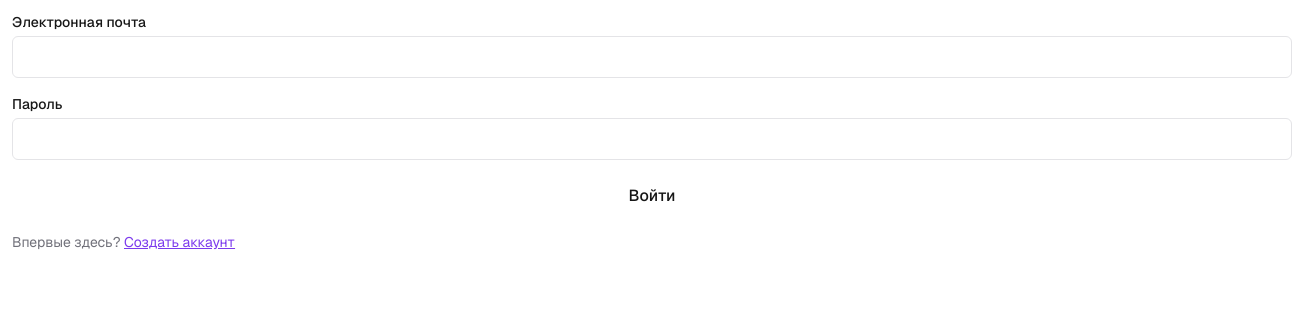
Test: SignInForm › shows the invalid-credentials alert and keeps the email
Type "reader@example.com" into the field labelled "Электронная почта" at (652, 57), box x1=12 y1=36 x2=1292 y2=78
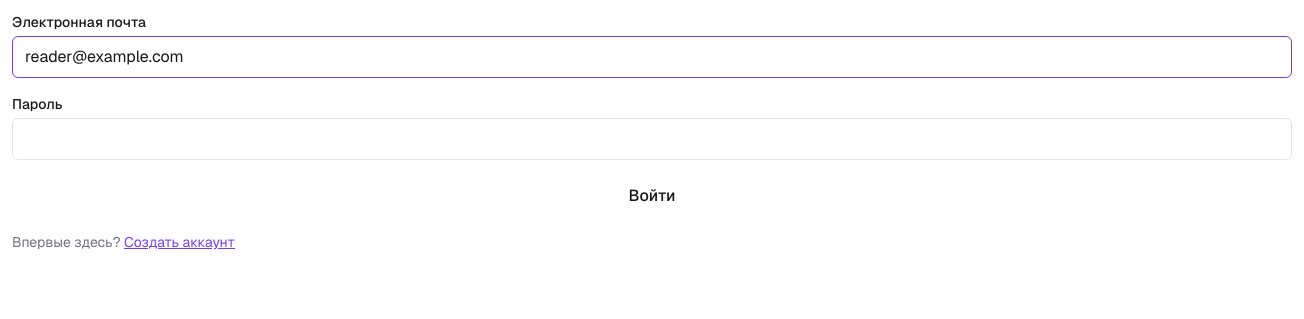
Type "secret-password-1" into the password field labelled "Пароль" at (652, 139), box x1=12 y1=118 x2=1292 y2=160
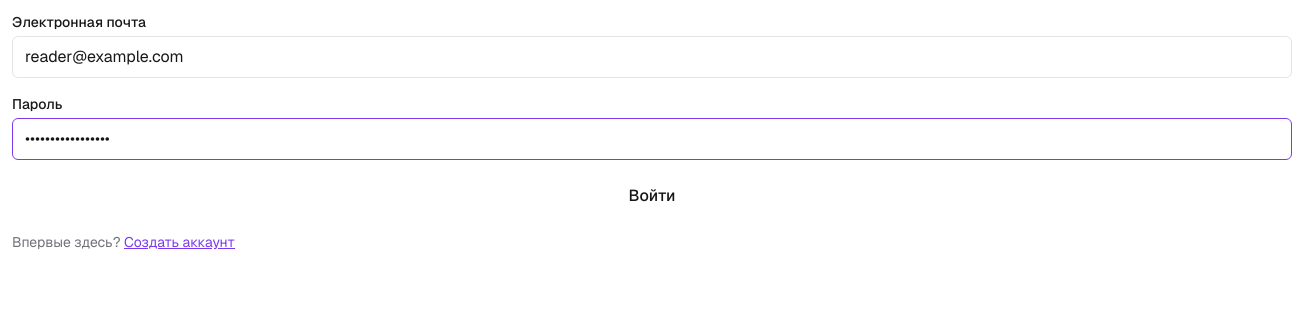
Click the button "Войти" at (652, 196), box x1=12 y1=176 x2=1292 y2=216
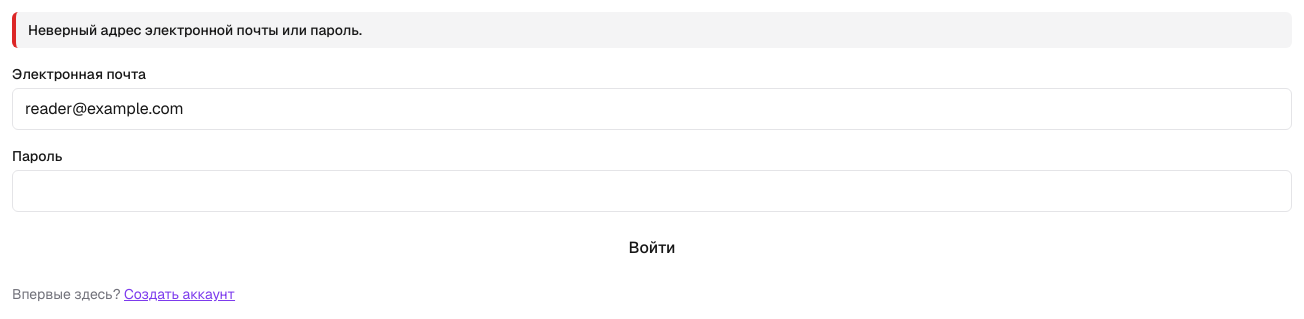
Expected: the message reads "Неверный адрес электронной почты или пароль.", x1=28 y1=21 x2=362 y2=39
Expected: the password field labelled "Пароль" is empty, x1=12 y1=170 x2=1292 y2=212
